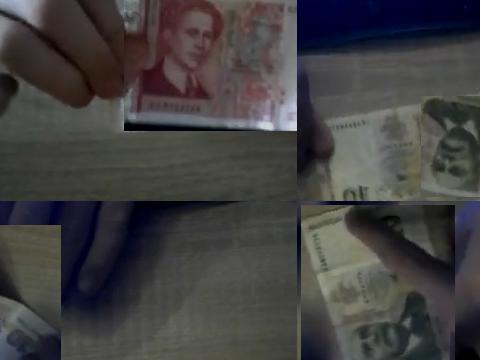10leva: (301, 205, 449, 360), (421, 96, 480, 196)
